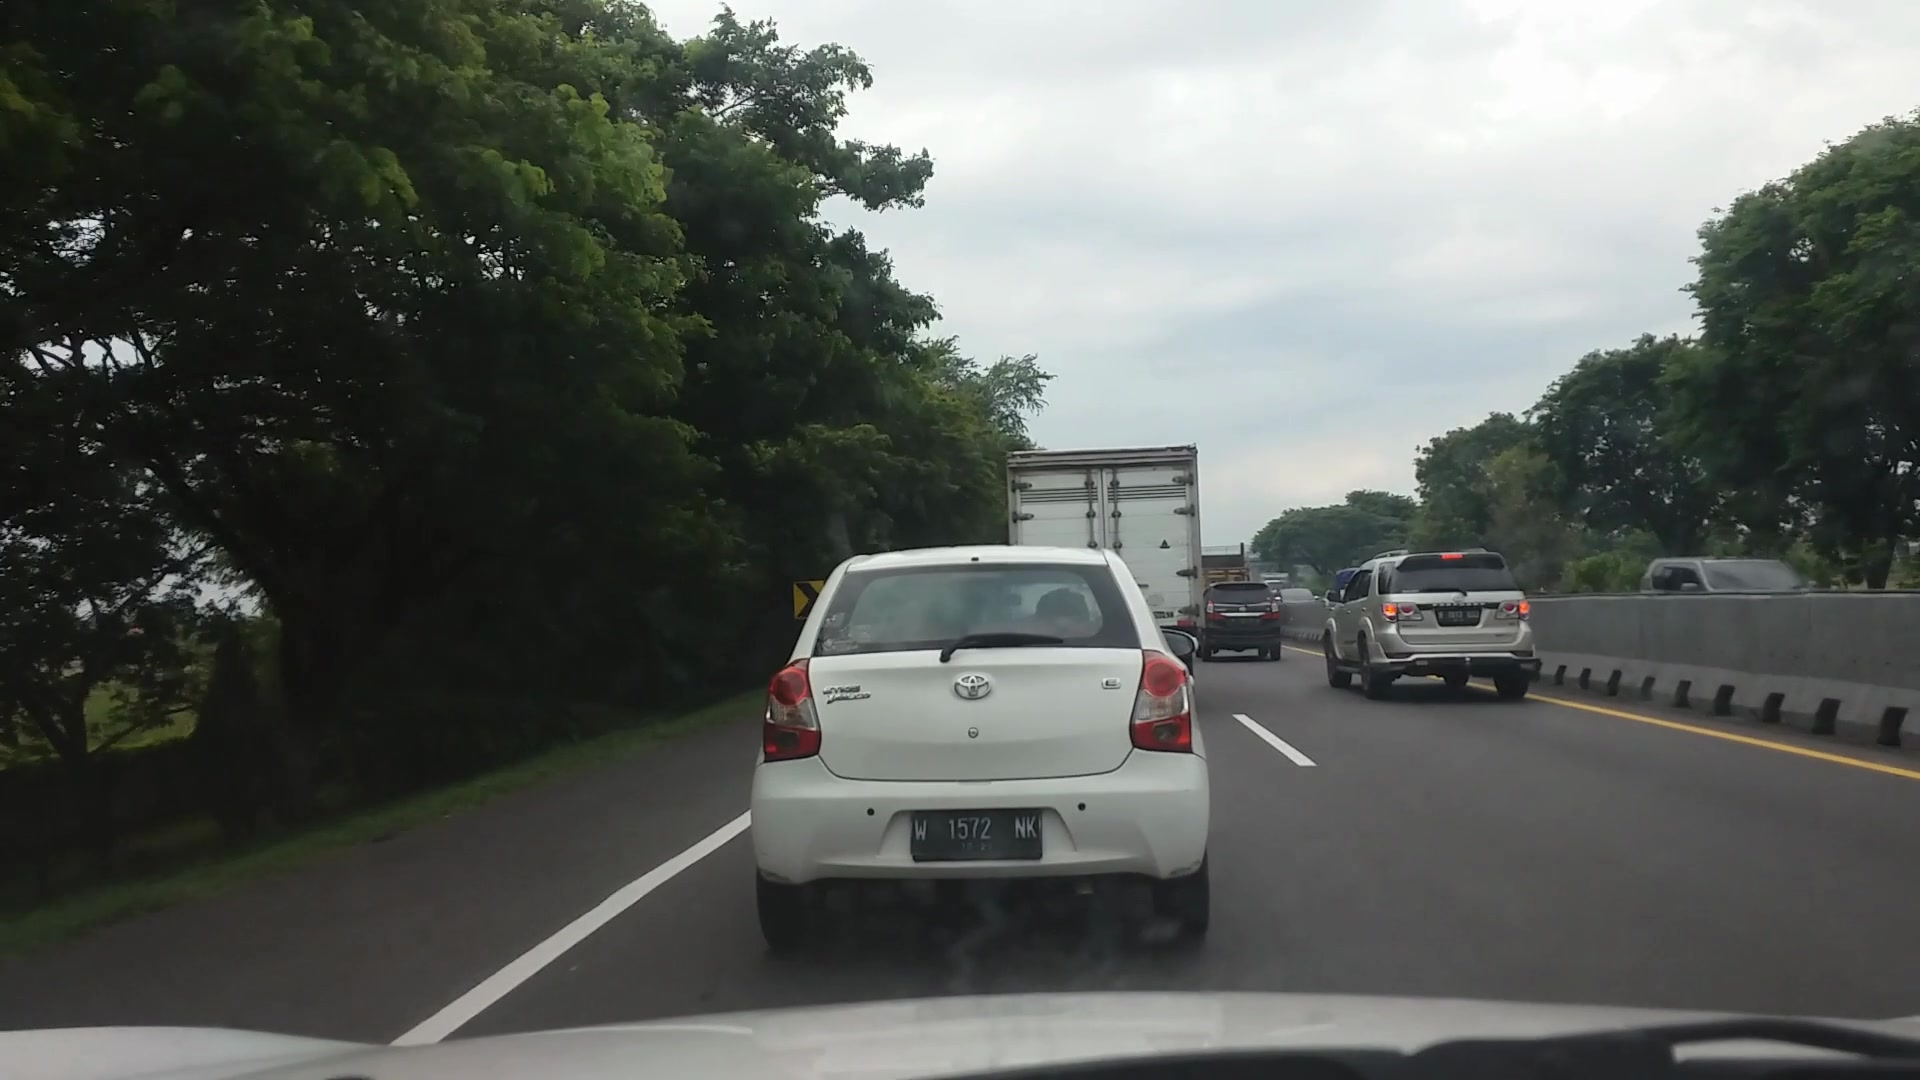plate_positive: (910, 808, 1043, 862)
